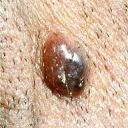Carcinoma: (38, 27, 90, 102)
